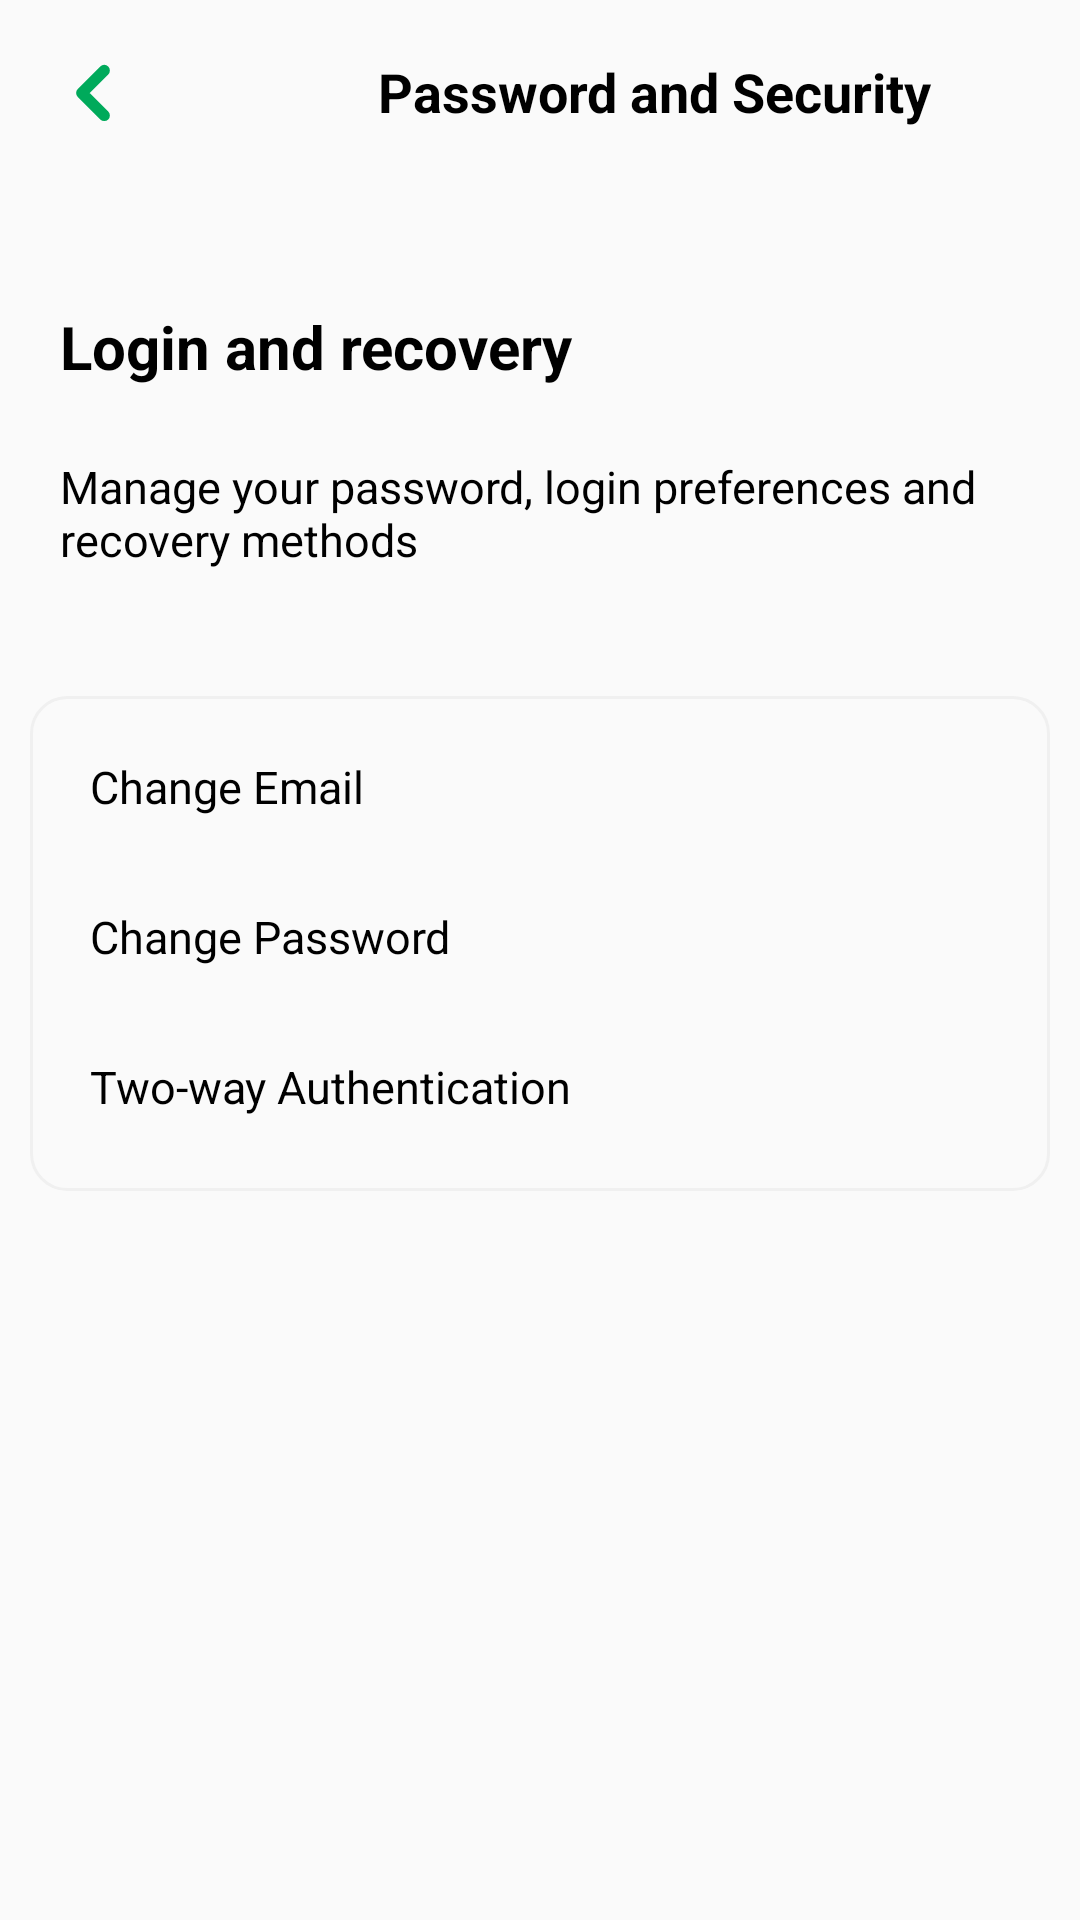

Where to tap for icons on this 1080*1920 app screen, as (x,y):
Back: (93,92)
